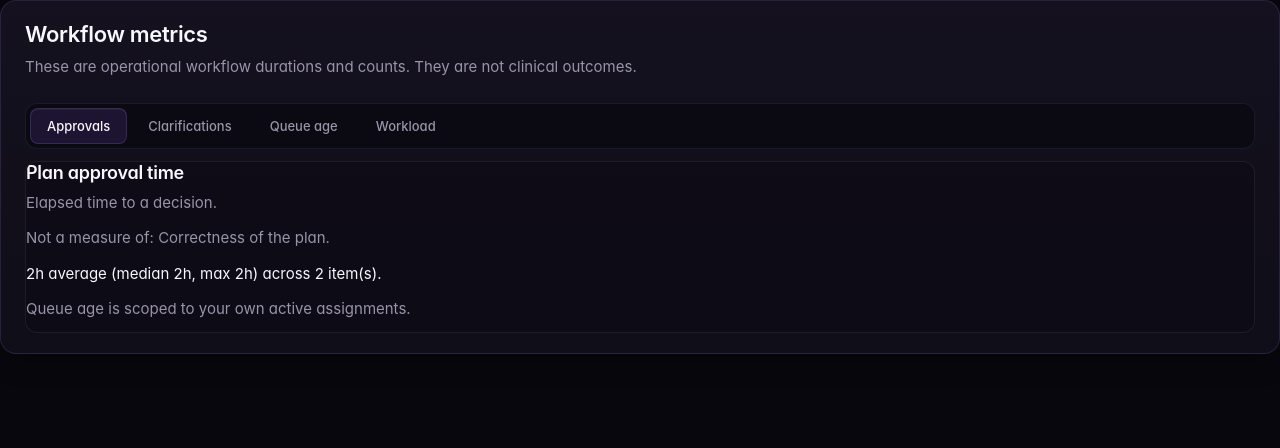
Test: MetricsPanel › switches panels, always shows the not-a-measure-of line, and renders queue age
Expected: the heading "Plan approval time" is shown, [26,162,184,183]
Expected: the text "Not a measure of: Correctness of the plan." is shown, [26,228,330,248]
Step 1. Click the tab "Queue age" → (304, 126), box [253,108,355,144]
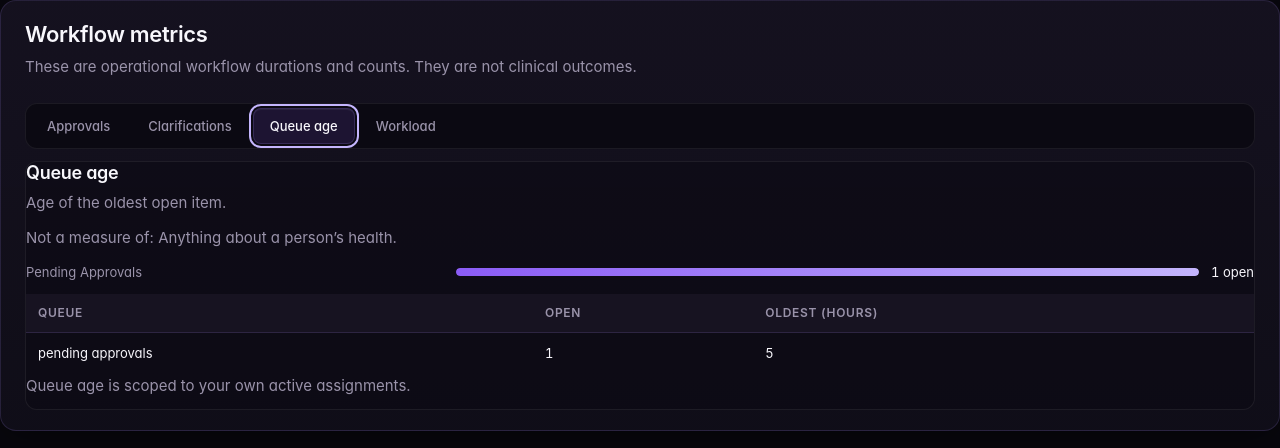
Now the cell "pending approvals" is shown, box [26,334,533,374]
Step 2. Click the tab "Workload" → (406, 126), box [359,108,453,144]
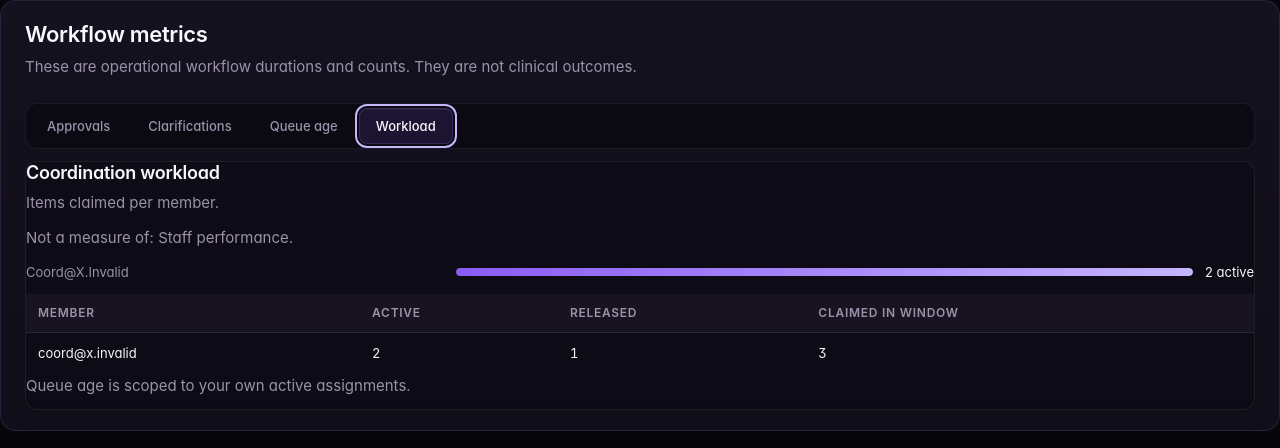
Now the cell "coord@x.invalid" is shown, box [26,334,360,374]
